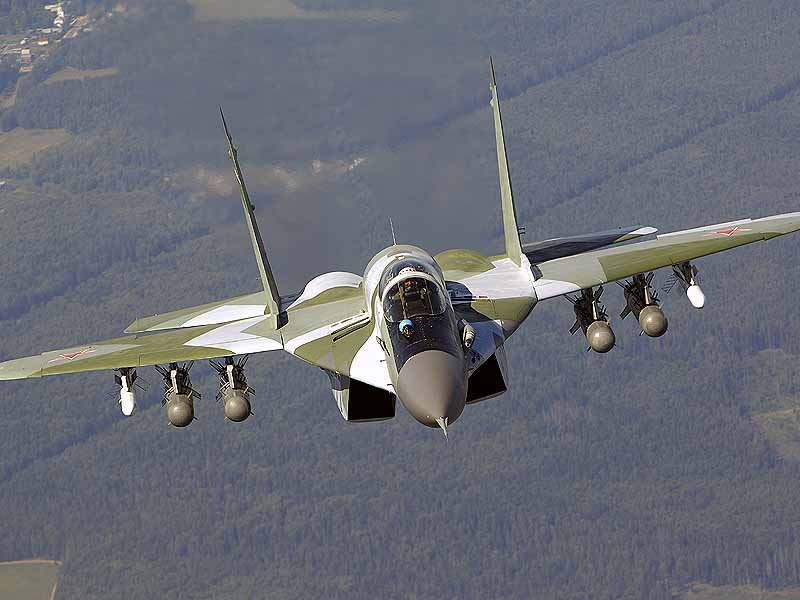Mig-29: (35, 59, 771, 490)
